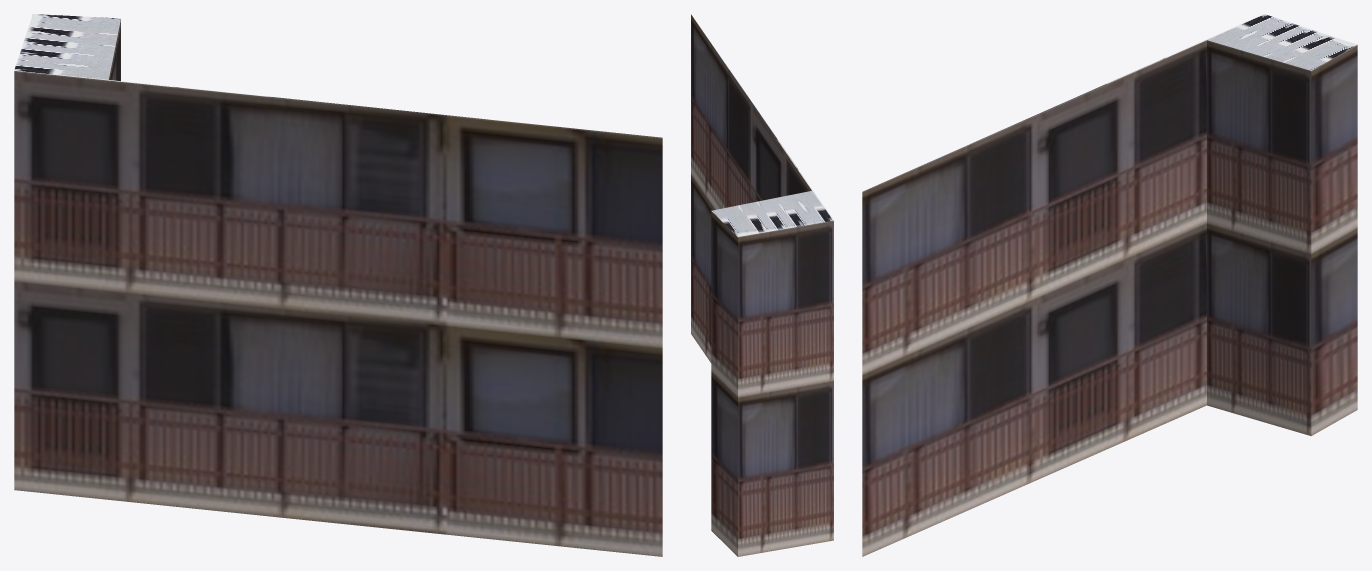
File: ResTex__2123.fbx
3 views of the same model, side by side, from view 1: azimuth 30°, elevation 25°; view 2: azimuth 150°, elevation 25°; view 3: azimuth 270°, elevation 25° (orthographic). The views are drawn at different scales.
Visible parts, largest first — view 1: CityEngineMaterial_6_m, CityEngineMaterial_8_m; view 2: CityEngineMaterial_6_m, CityEngineMaterial_8_m; view 3: CityEngineMaterial_6_m, CityEngineMaterial_8_m.
Part boxes in pixels (x1,y1,x2,y2): CityEngineMaterial_6_m: (14,20,662,556); CityEngineMaterial_8_m: (14,14,622,133); CityEngineMaterial_6_m: (691,14,833,556); CityEngineMaterial_8_m: (704,33,833,236); CityEngineMaterial_6_m: (862,40,1357,556); CityEngineMaterial_8_m: (896,14,1356,176).
Size of the model in its own units: 6.26 by 6 by 7.37.
2 materials, 2 textured.
